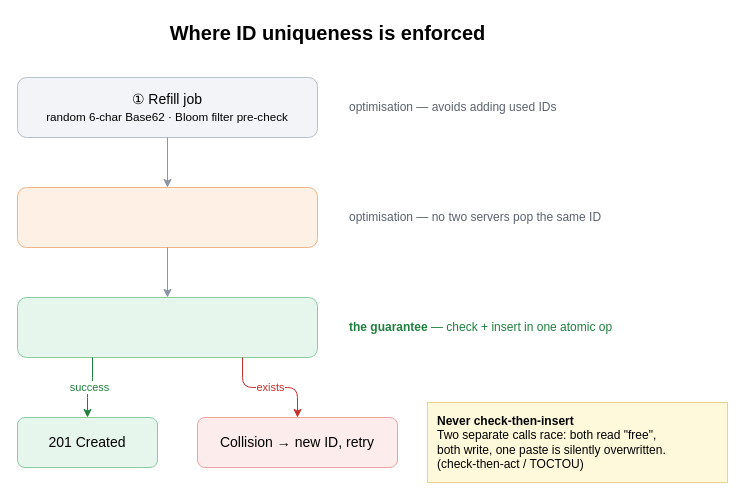
The diagram is 745 pixels wide and 500 high, and some of its shapes have lost their labels. Here are the shapes that lost their labels. From the top down, the centre of each, then its label:
pixel 167 217: ② ID pool (Redis set) atomic SPOP · batch of 100 per server
pixel 167 327: ③ DynamoDB conditional put attribute_not_exists(paste_id)
